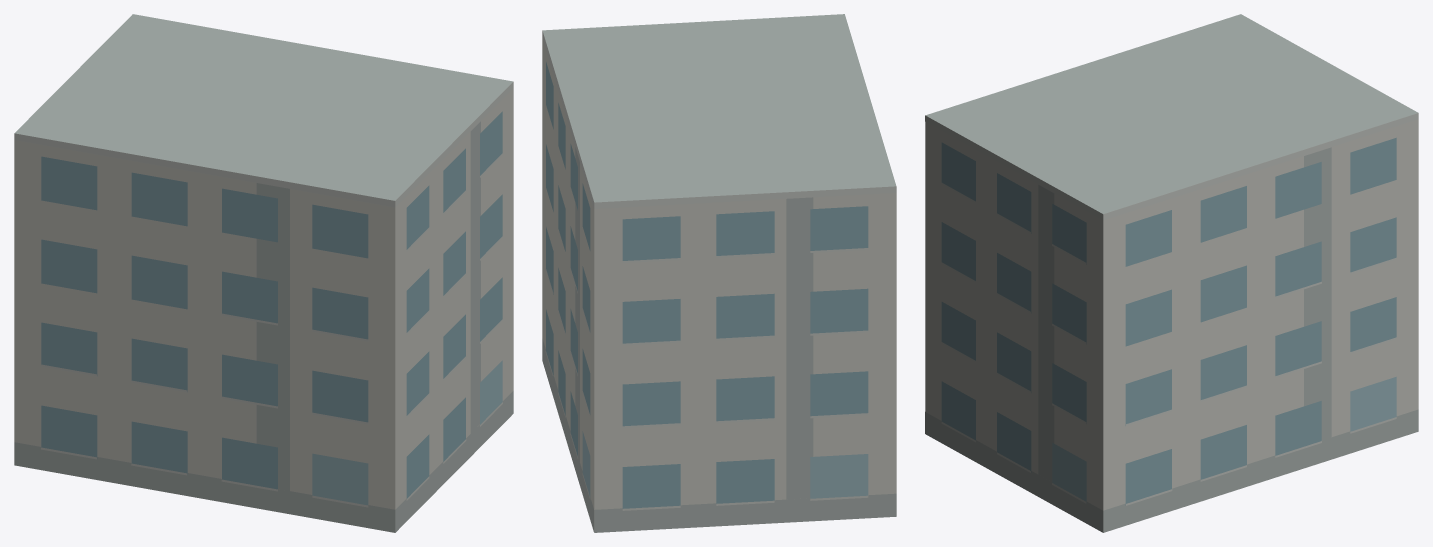
The model's file is residential-2995de3e-17cd-4d43-b8d0-f849e53c10af.glb.
The picture shows the model from 3 angles, left to right: view 1: azimuth 30°, elevation 25°; view 2: azimuth 150°, elevation 25°; view 3: azimuth 270°, elevation 25°; orthographic projection. The views are drawn at different scales.
Visible parts, largest first — view 1: residential-2995de3e-17cd-4d43-b8d0-f849e53c10af.tmp; view 2: residential-2995de3e-17cd-4d43-b8d0-f849e53c10af.tmp; view 3: residential-2995de3e-17cd-4d43-b8d0-f849e53c10af.tmp.
Part boxes in pixels (x1,y1,x2,y2): residential-2995de3e-17cd-4d43-b8d0-f849e53c10af.tmp: (14, 14, 513, 532); residential-2995de3e-17cd-4d43-b8d0-f849e53c10af.tmp: (542, 14, 896, 532); residential-2995de3e-17cd-4d43-b8d0-f849e53c10af.tmp: (925, 14, 1418, 532).
Size of the model in its own units: 16.45 by 12.2 by 17.13.
